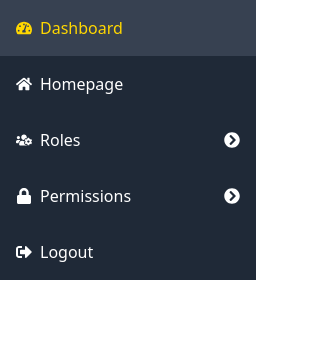
Test: Sidebar Component › should toggle Permissions dropdown
The image size is (320, 337).
Click the text "Permissions".
click(86, 196)  # box [40,184,131,208]
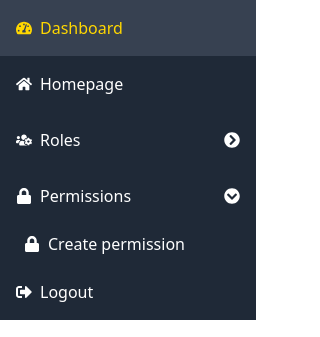
Result: the text "Create permission" is shown at [48,232,185,256]
Click the text "Permissions".
click(86, 196)  # box [40,184,131,208]
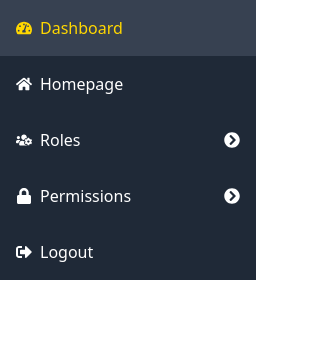
Result: the link "Create permission" is gone
